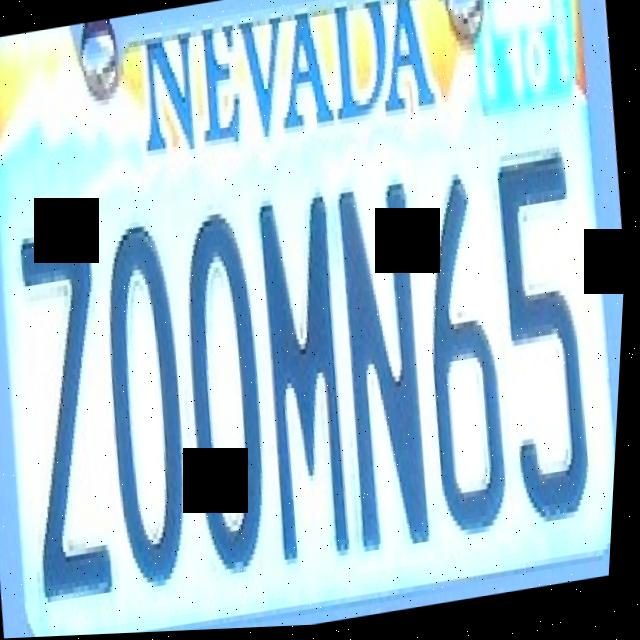0: (81, 204, 221, 615), (161, 187, 299, 599)
5: (476, 136, 621, 546)
6: (402, 149, 536, 559)
M: (240, 171, 382, 574)
N: (315, 160, 457, 579)
Z: (0, 210, 142, 618)
